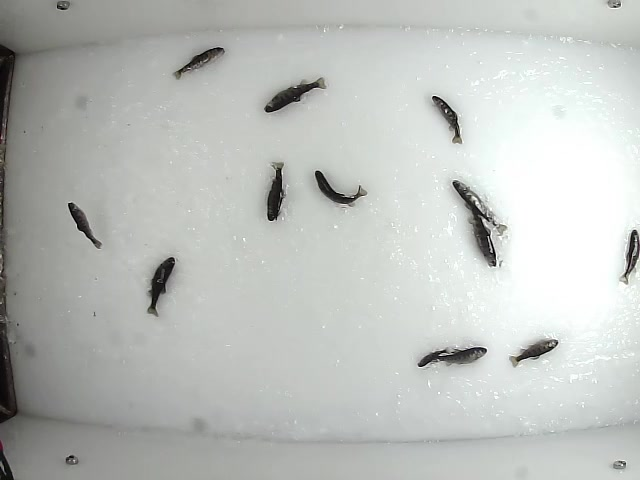fish: (452, 179, 509, 238), (262, 76, 329, 115), (464, 197, 497, 267), (313, 170, 369, 209), (144, 254, 176, 319), (171, 44, 226, 81), (64, 200, 104, 250), (429, 94, 464, 146), (508, 339, 560, 369), (264, 160, 288, 224), (615, 228, 640, 286), (427, 344, 489, 367), (417, 341, 453, 368)
